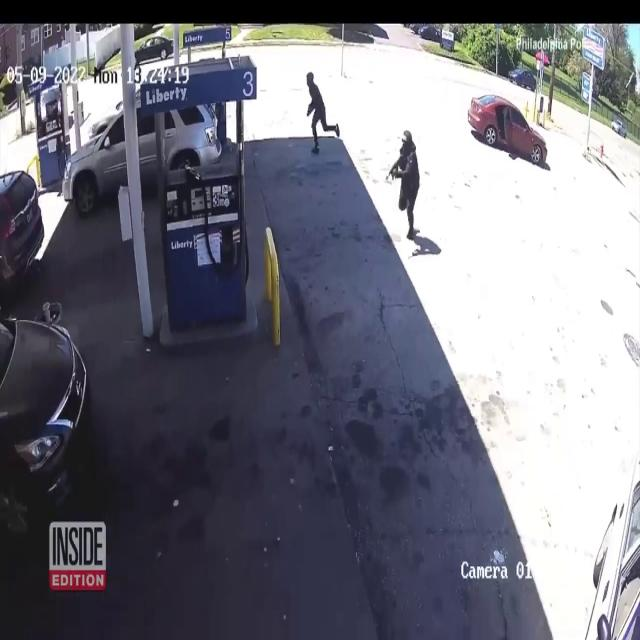penembakan: (384, 127, 428, 239), (301, 71, 342, 155)
